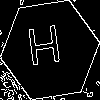H: (25, 25, 64, 75)
